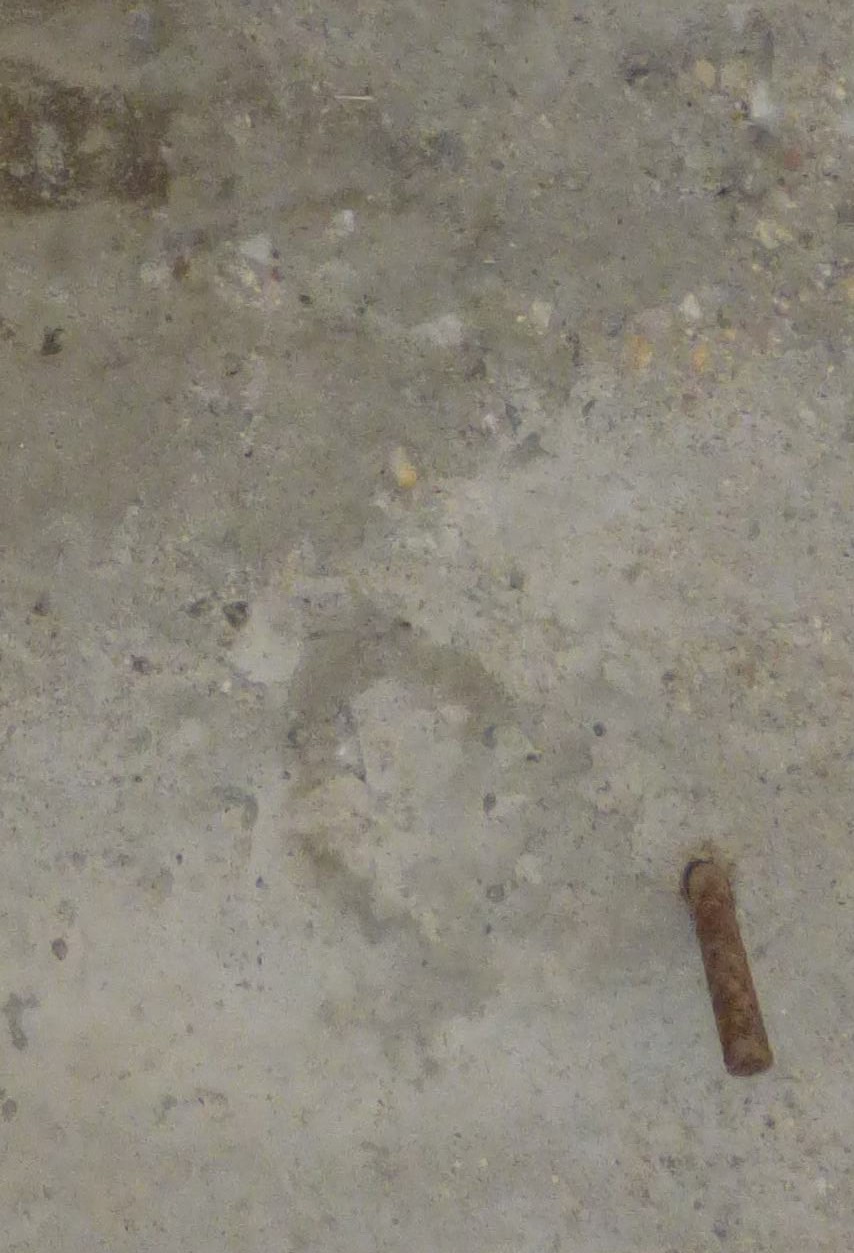Exposed reinforcement: (686, 860, 775, 1079)
